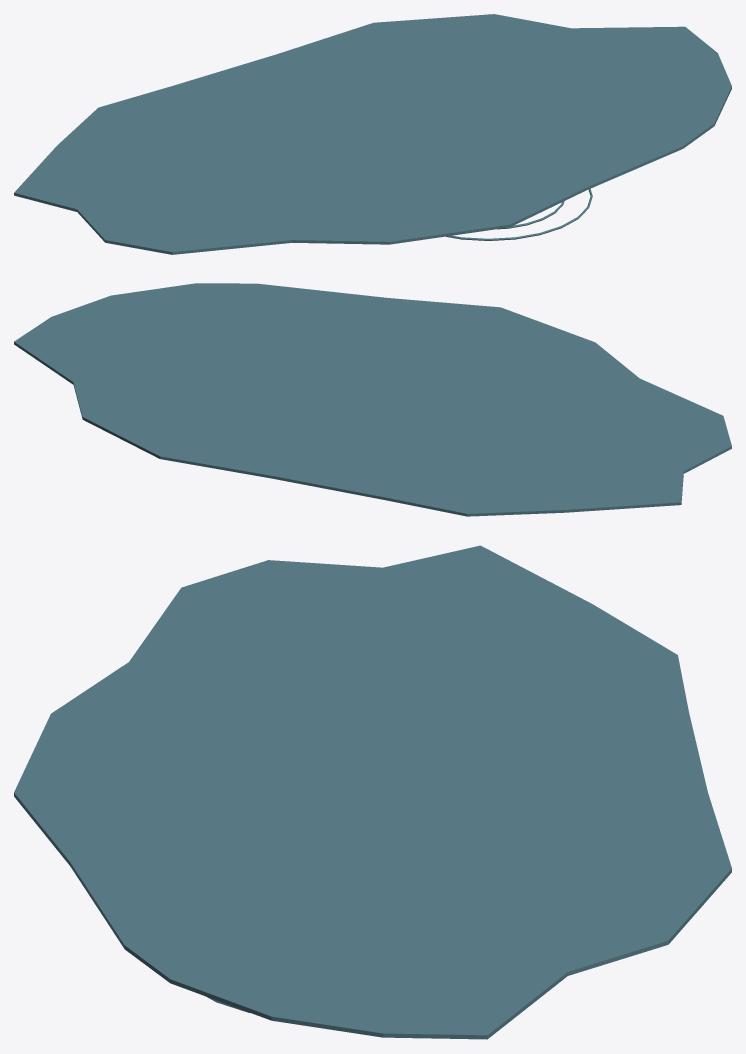
Rendered from source-edit.glb.
3 views of the same model, one above another, from view 1: azimuth 30°, elevation 25°; view 2: azimuth 150°, elevation 25°; view 3: azimuth 270°, elevation 25° (orthographic). The views are drawn at different scales.
Visible parts, largest first — view 1: PUDDLE_Water, PUDDLE_Ripple; view 2: PUDDLE_Water; view 3: PUDDLE_Water.
Boxes of the visible parts, x1,y1,x2,y2 form: PUDDLE_Water: (14, 14, 731, 254); PUDDLE_Ripple: (446, 189, 592, 240); PUDDLE_Water: (14, 283, 731, 516); PUDDLE_Water: (14, 545, 731, 1039).
Bounding box in the file's own units: 2.03 × 0.2006 × 1.26.
